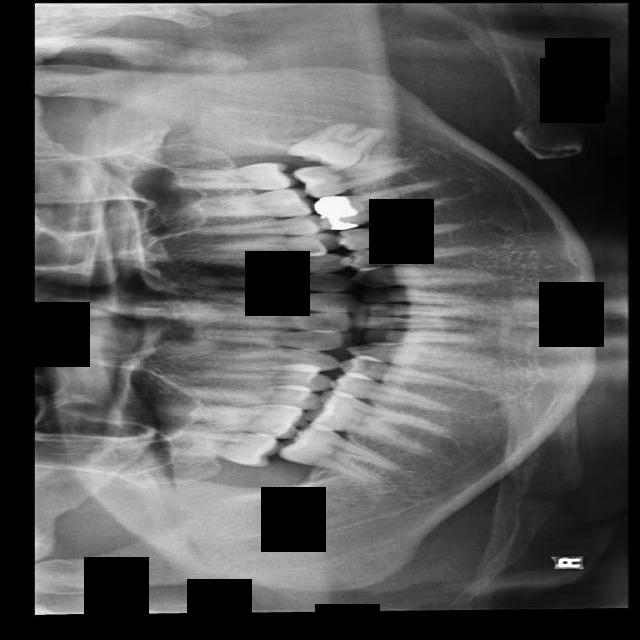52: (313, 192, 362, 231)
73: (612, 10, 620, 18)
BioHorizons Implant: (162, 160, 298, 190)
Biomet 3i Implant: (286, 104, 389, 189)
Blue Sky Bio Implant: (293, 157, 403, 200)
Caries: (147, 426, 281, 468)
Implant: (277, 413, 405, 494)
